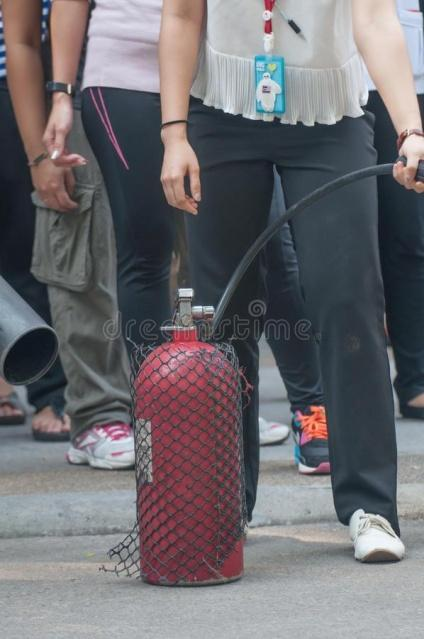APAR: (131, 287, 245, 586)
